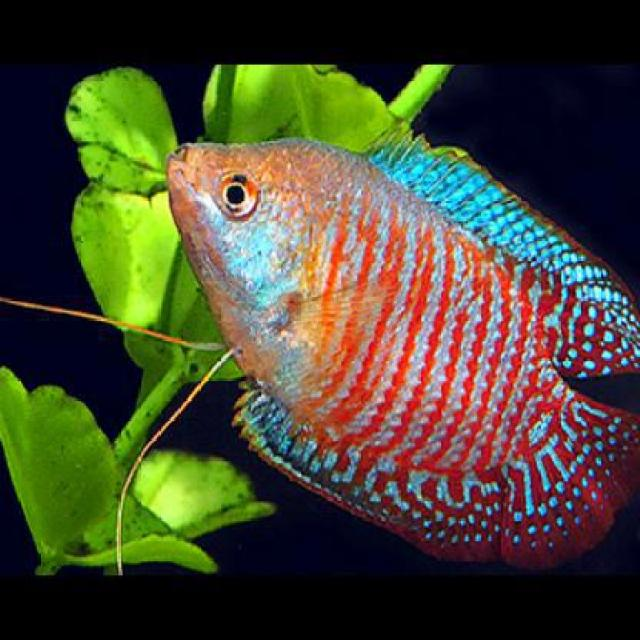Gourami: (160, 134, 638, 575)
